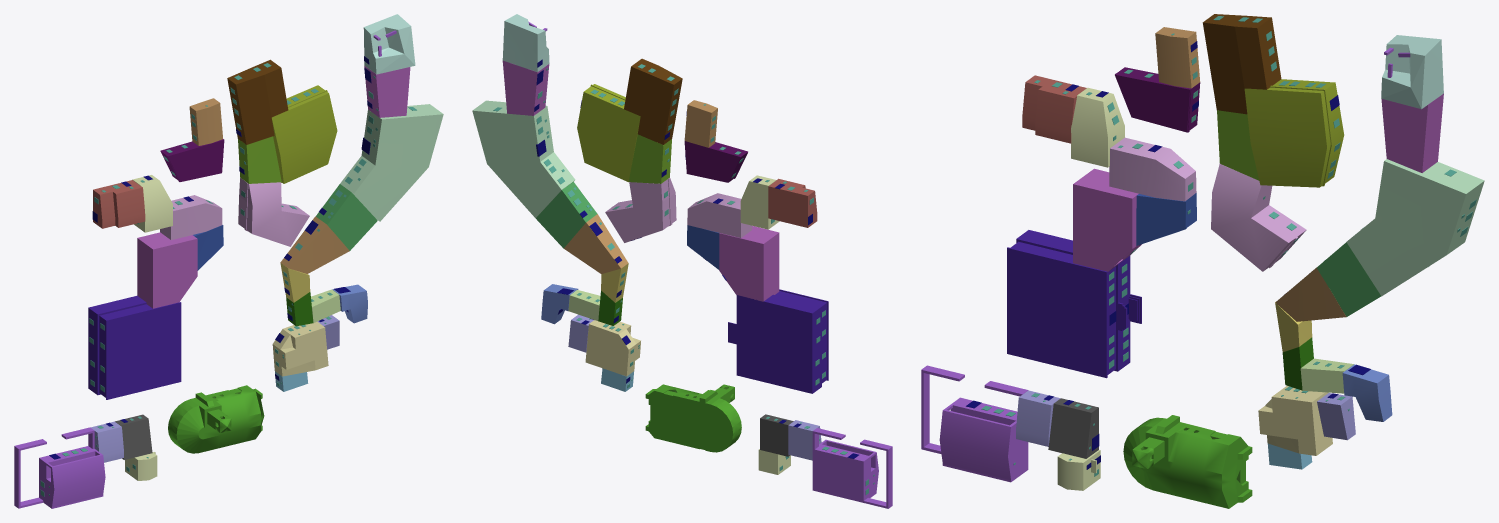
The model's file is MONTEVIEJO.obj.
3 views of the same model, side by side, from view 1: azimuth 30°, elevation 25°; view 2: azimuth 150°, elevation 25°; view 3: azimuth 330°, elevation 25° (orthographic). The views are drawn at different scales.
Visible parts, largest first — view 1: AYUNTAMIENTO, BIBLIOTECA, IGLESIA, COLEGIO, CASA_ALCALDE, BAR_1, HOSTAL, MEDICO, CASA_DESTRUIDA, BAR_2, CASA_ANTONIO, CASA_R_12 (+16 smaller); view 2: AYUNTAMIENTO, BIBLIOTECA, IGLESIA, CASA_ALCALDE, COLEGIO, BAR_1, HOSTAL, MEDICO, BAR_2, CASA_DESTRUIDA, CASA_R_12, CASA_R_13 (+18 smaller); view 3: AYUNTAMIENTO, BIBLIOTECA, COLEGIO, IGLESIA, CASA_ALCALDE, MEDICO, HOSTAL, BAR_1, CASA_AMIGA_VECINA, CASA_DESTRUIDA, BAR_2, COMERCIO (+20 smaller).
Part boxes in pixels (bbox=[...]): AYUNTAMIENTO: bbox=[89, 296, 180, 398]; BIBLIOTECA: bbox=[340, 104, 443, 221]; IGLESIA: bbox=[168, 385, 264, 453]; COLEGIO: bbox=[271, 85, 337, 183]; CASA_ALCALDE: bbox=[14, 427, 105, 508]; BAR_1: bbox=[137, 232, 197, 308]; HOSTAL: bbox=[227, 59, 288, 144]; MEDICO: bbox=[238, 177, 309, 246]; CASA_DESTRUIDA: bbox=[363, 14, 415, 74]; BAR_2: bbox=[272, 321, 328, 376]; CASA_ANTONIO: bbox=[93, 180, 145, 228]; CASA_R_12: bbox=[316, 184, 377, 250]; AYUNTAMIENTO: bbox=[728, 291, 828, 393]; BIBLIOTECA: bbox=[472, 100, 575, 218]; IGLESIA: bbox=[645, 384, 741, 452]; CASA_ALCALDE: bbox=[812, 428, 892, 508]; COLEGIO: bbox=[577, 84, 640, 182]; BAR_1: bbox=[719, 226, 779, 301]; HOSTAL: bbox=[624, 58, 682, 144]; MEDICO: bbox=[605, 177, 676, 242]; BAR_2: bbox=[585, 320, 640, 376]; CASA_DESTRUIDA: bbox=[502, 14, 549, 71]; CASA_R_12: bbox=[536, 181, 597, 248]; CASA_R_13: bbox=[502, 60, 549, 115]; AYUNTAMIENTO: bbox=[1008, 231, 1128, 376]; BIBLIOTECA: bbox=[1346, 159, 1484, 296]; COLEGIO: bbox=[1244, 79, 1344, 187]; IGLESIA: bbox=[1123, 415, 1252, 508]; CASA_ALCALDE: bbox=[921, 365, 1028, 482]; MEDICO: bbox=[1211, 163, 1306, 271]; HOSTAL: bbox=[1202, 14, 1281, 114]; BAR_1: bbox=[1073, 168, 1141, 271]; CASA_AMIGA_VECINA: bbox=[1109, 137, 1196, 201]; CASA_DESTRUIDA: bbox=[1381, 35, 1443, 109]; BAR_2: bbox=[1258, 385, 1332, 455]; COMERCIO: bbox=[1115, 67, 1200, 132].
Bounding box in the file's own units: 110 × 100 × 13.38.
